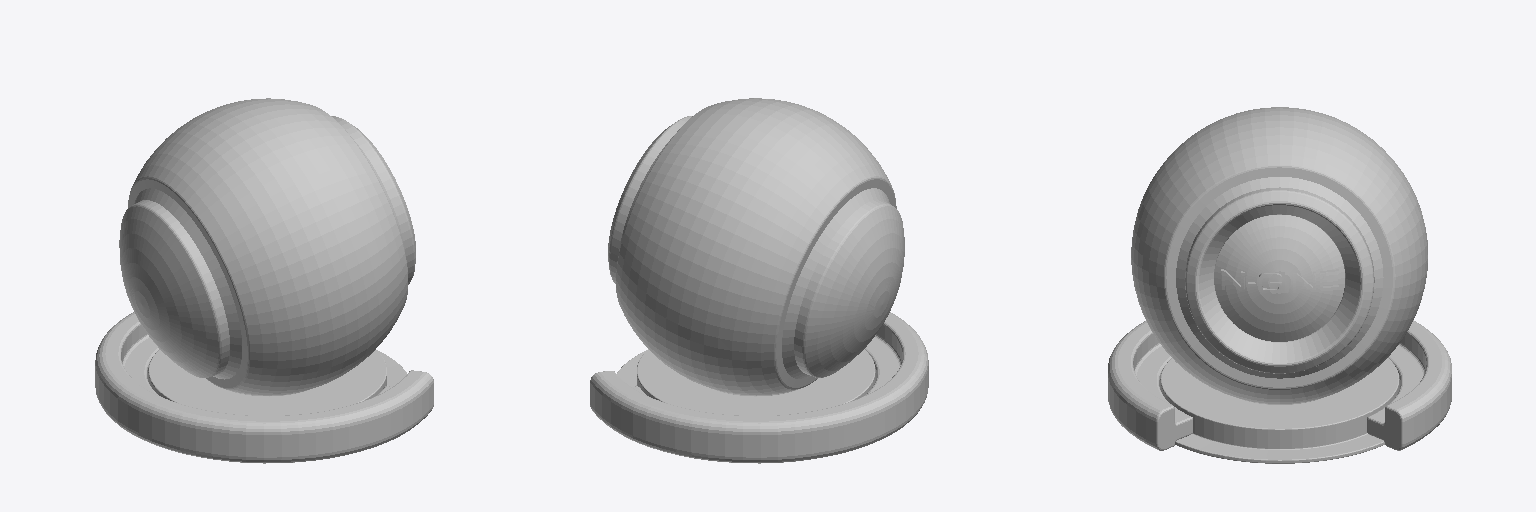
Rendered from JM_MaterialPreview_01.obj.
The picture shows the model from 3 angles: view 1: azimuth 30°, elevation 25°; view 2: azimuth 150°, elevation 25°; view 3: azimuth 270°, elevation 25°; orthographic projection.
Visible parts, largest first — view 1: Sphere.002_Sphere.001; view 2: Sphere.002_Sphere.001; view 3: Sphere.002_Sphere.001.
Part boxes in pixels (x1,y1,x2,y2): Sphere.002_Sphere.001: (95,98,433,463); Sphere.002_Sphere.001: (590,98,928,463); Sphere.002_Sphere.001: (1108,107,1451,463).
Bounding box in the file's own units: 2.14 × 2.09 × 2.32.